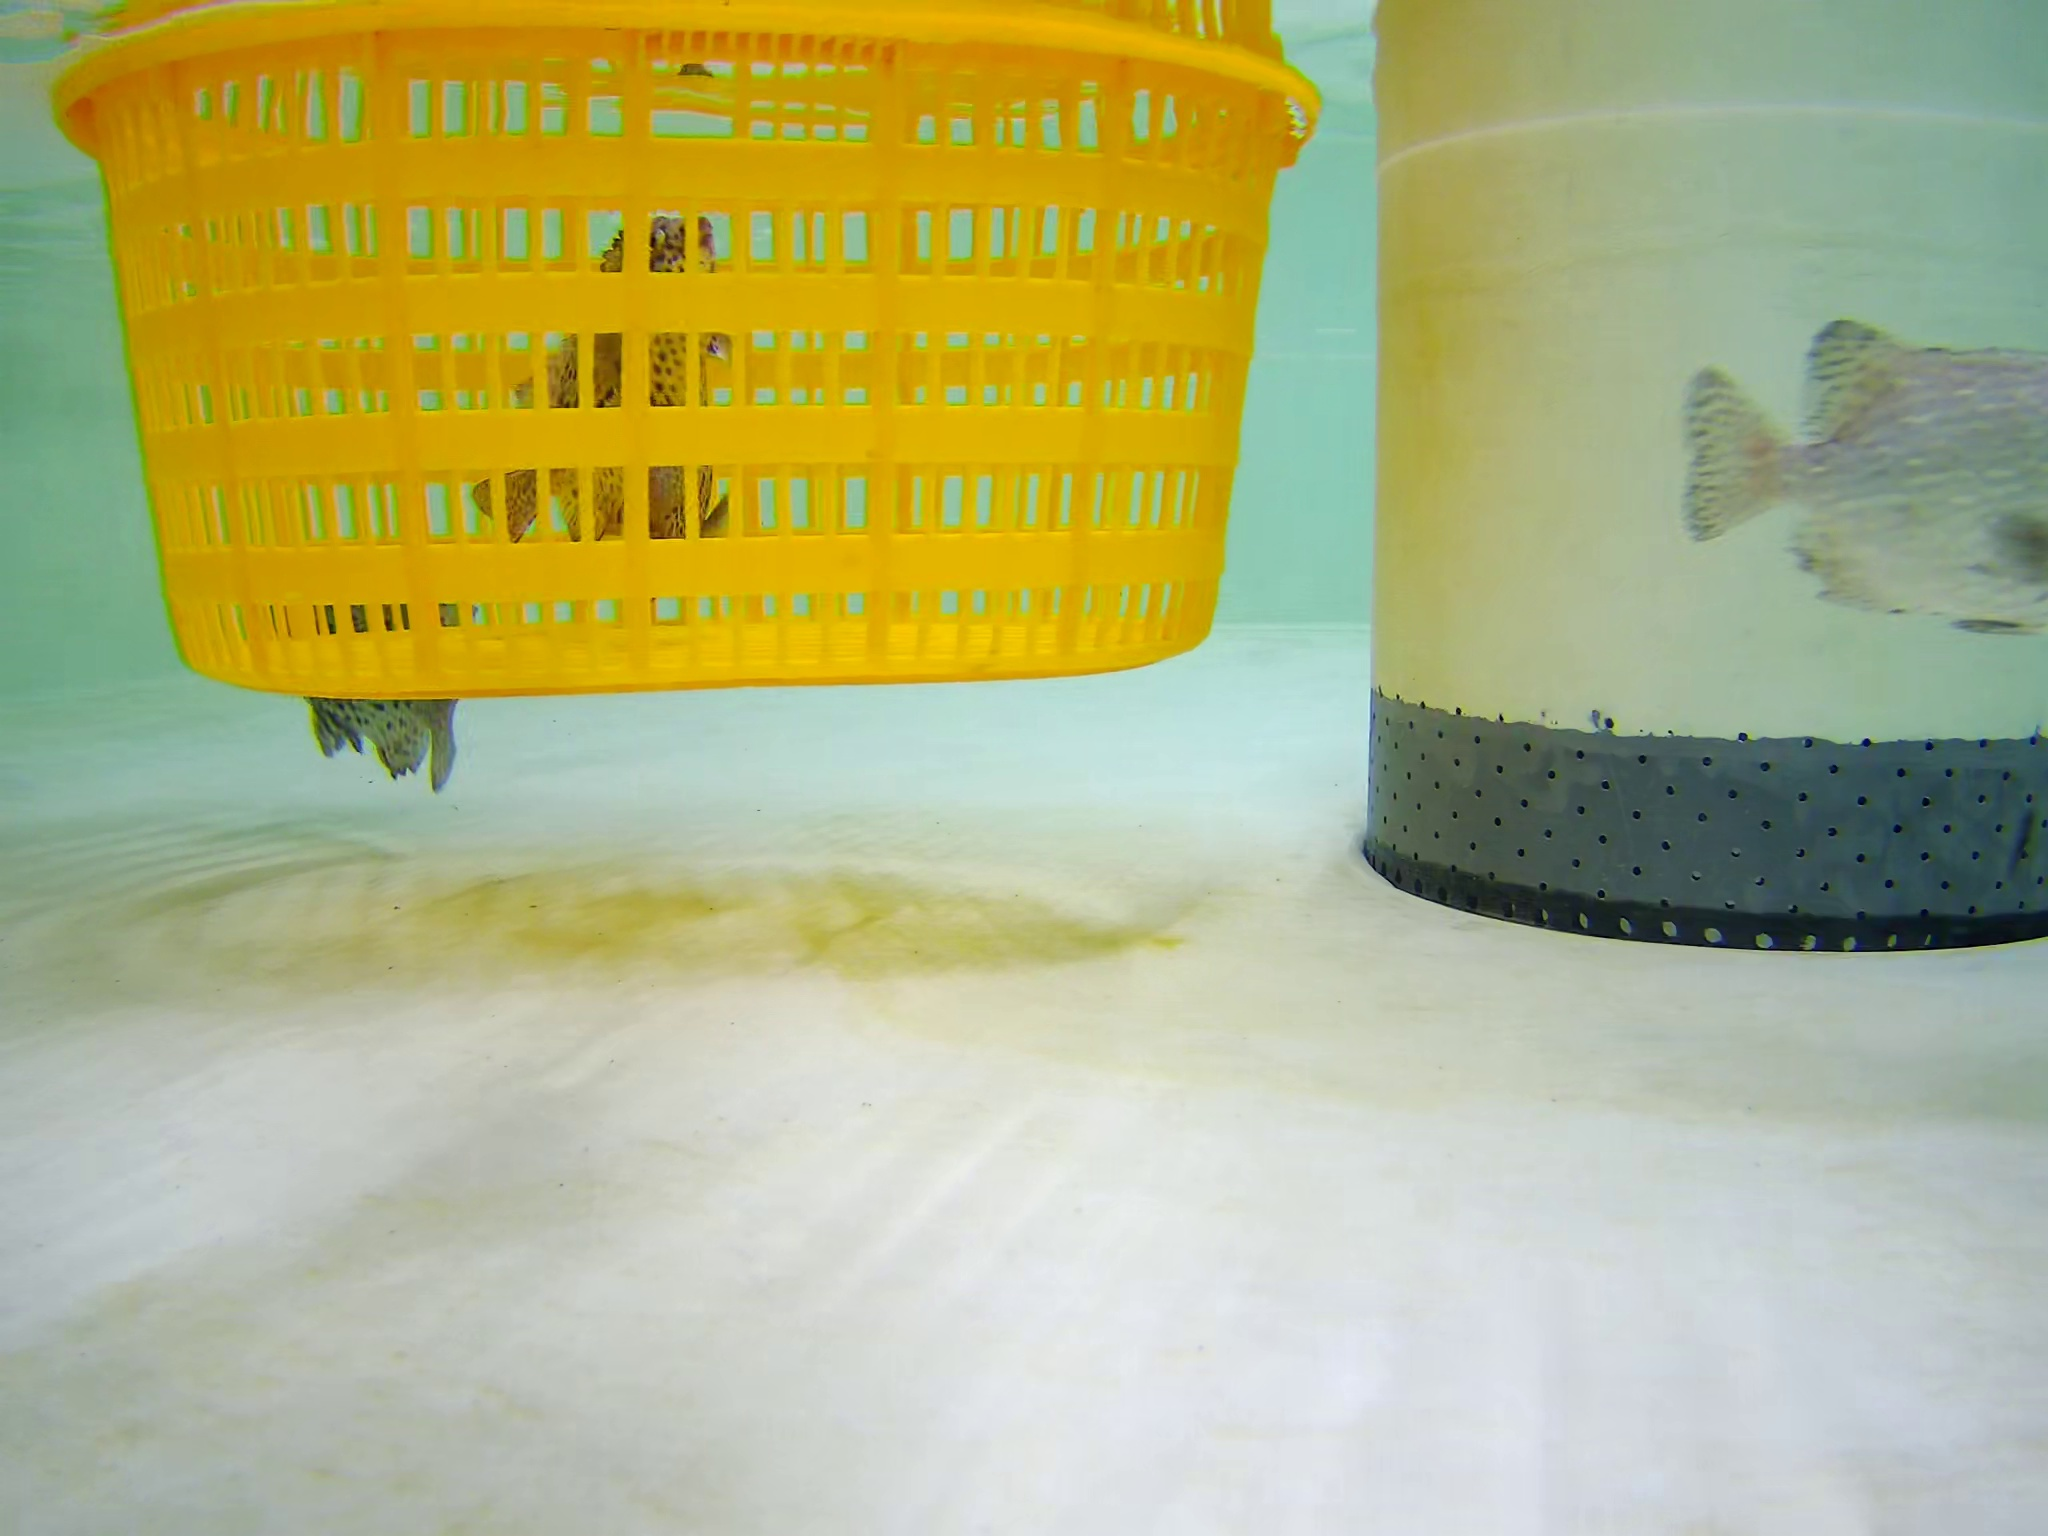fish: (1666, 316, 2048, 662), (461, 197, 732, 584), (292, 505, 471, 797)
